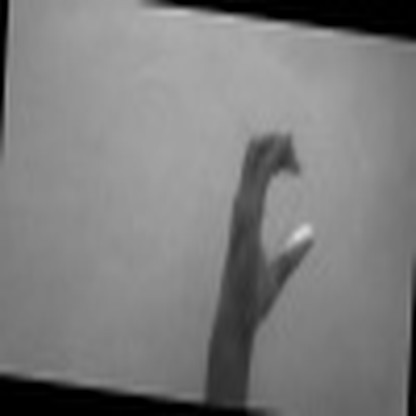c: (212, 118, 333, 313)
